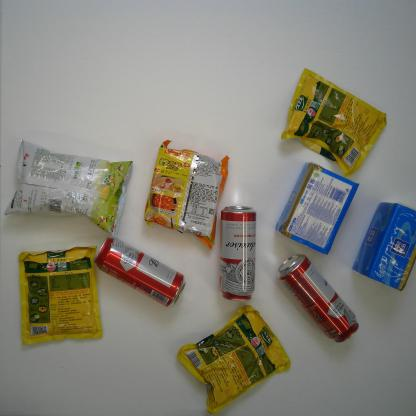Alcohol: (276, 254, 360, 343), (93, 236, 187, 309), (218, 204, 257, 302)
Instant Noodles: (143, 139, 230, 250)
Puffed Food: (3, 138, 134, 238)
Seasoner: (175, 303, 291, 414), (280, 68, 387, 180), (18, 245, 103, 345)
Tissue: (274, 161, 360, 256), (351, 201, 416, 293)
